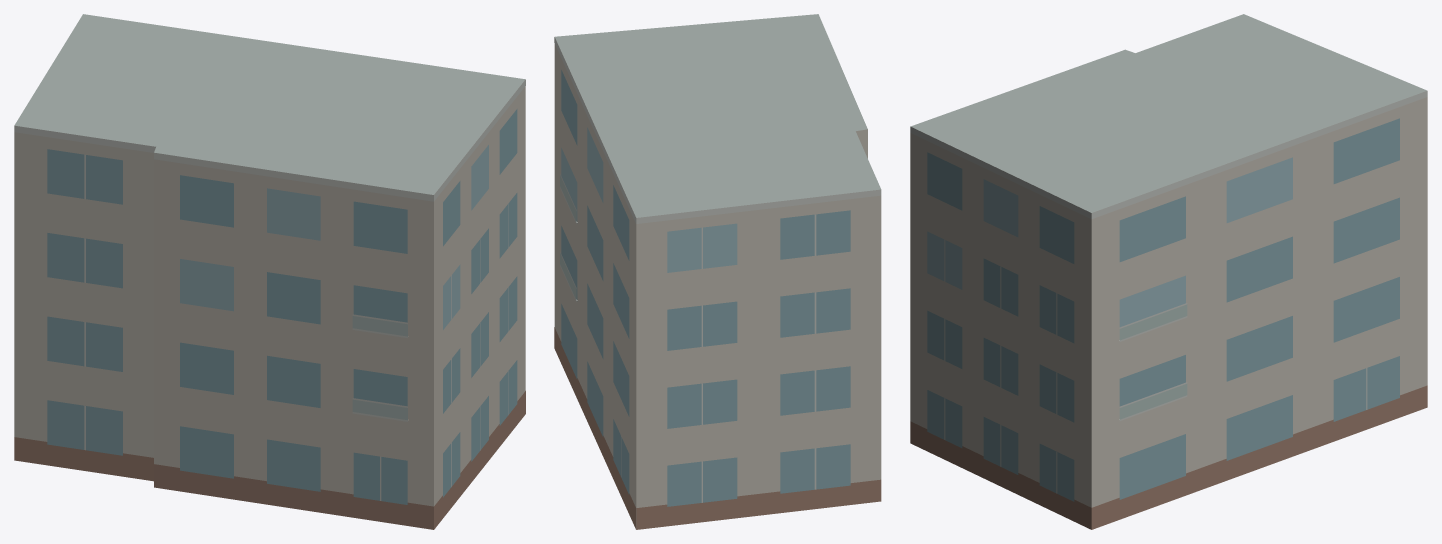
The model's file is survey-upis-32833506.glb.
The picture shows the model from 3 angles, left to right: view 1: azimuth 30°, elevation 25°; view 2: azimuth 150°, elevation 25°; view 3: azimuth 270°, elevation 25°; orthographic projection. The views are drawn at different scales.
Visible parts, largest first — view 1: survey-upis-32833506.tmp; view 2: survey-upis-32833506.tmp; view 3: survey-upis-32833506.tmp.
Boxes of the visible parts, left/top/right/bottom form: survey-upis-32833506.tmp: left=14, top=14, right=525, bottom=529; survey-upis-32833506.tmp: left=554, top=14, right=881, bottom=529; survey-upis-32833506.tmp: left=910, top=14, right=1427, bottom=529.
Size of the model in its own units: 16.72 by 12.4 by 18.35.
